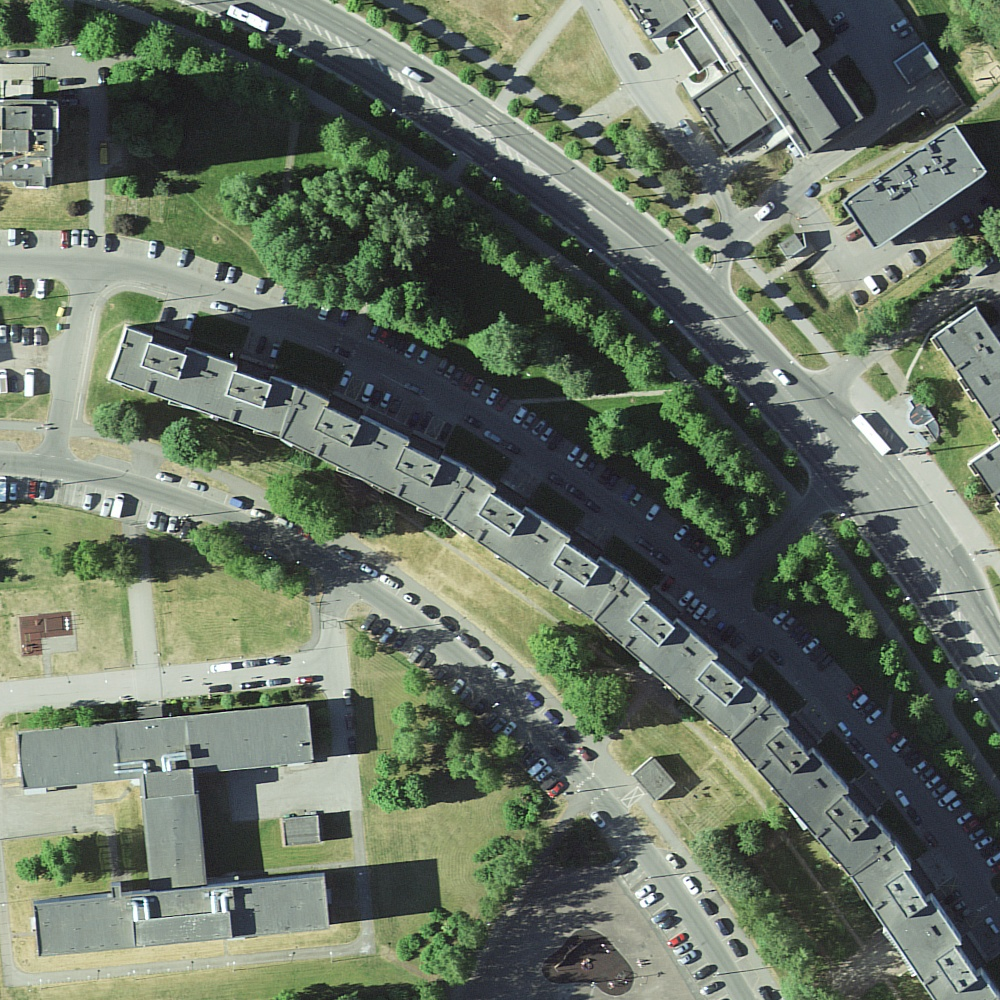building: (107, 326, 1000, 1000), (17, 705, 331, 957), (624, 1, 866, 156), (842, 124, 989, 248), (931, 307, 1000, 512), (1, 64, 60, 189), (631, 756, 678, 803), (281, 815, 322, 848), (777, 234, 807, 260)
